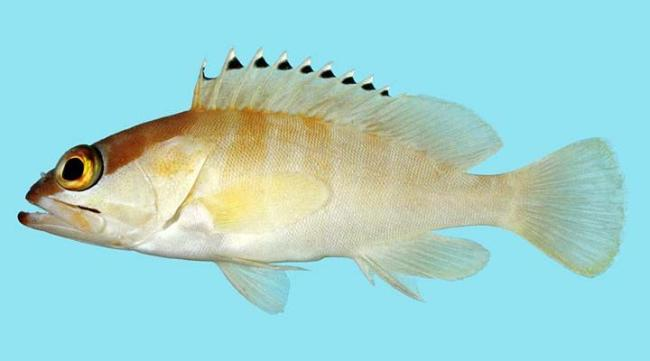fish: (17, 44, 626, 315)
